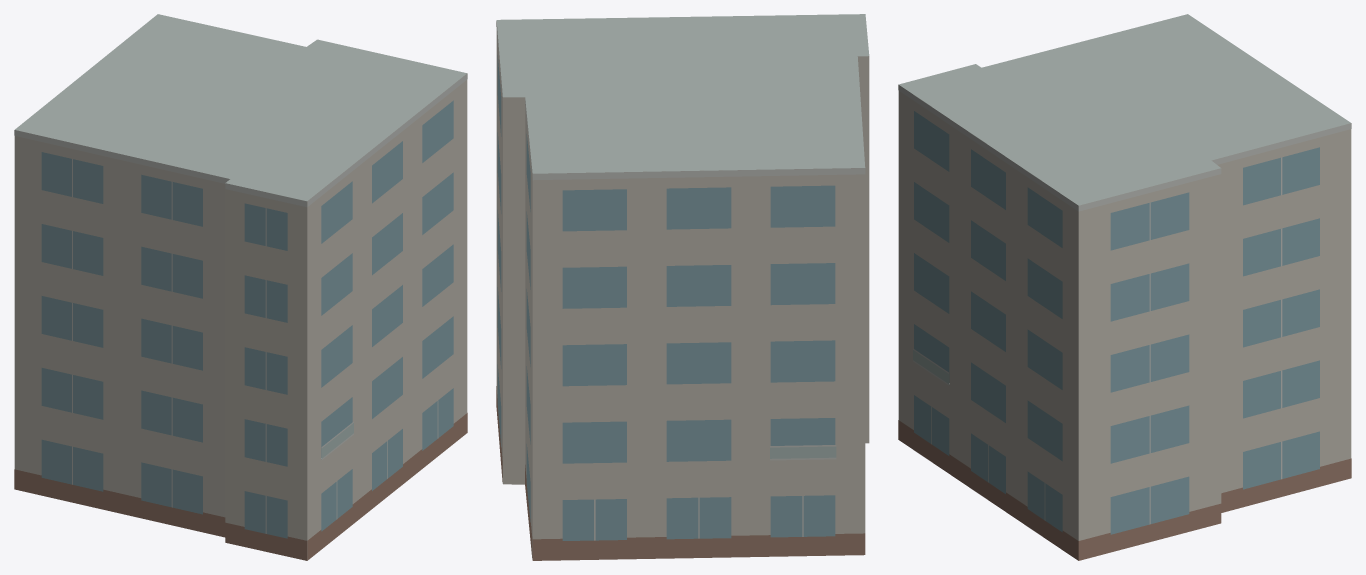
The model's file is survey-upis-32466091.glb.
The picture shows the model from 3 angles, left to right: view 1: azimuth 30°, elevation 25°; view 2: azimuth 150°, elevation 25°; view 3: azimuth 270°, elevation 25°; orthographic projection. The views are drawn at different scales.
Parts seen in each view (by area): view 1: survey-upis-32466091.tmp; view 2: survey-upis-32466091.tmp; view 3: survey-upis-32466091.tmp.
Boxes of the visible parts, left/top/right/bottom form: survey-upis-32466091.tmp: left=14, top=14, right=467, bottom=560; survey-upis-32466091.tmp: left=496, top=14, right=869, bottom=560; survey-upis-32466091.tmp: left=898, top=14, right=1351, bottom=560.
Size of the model in its own units: 16.96 by 14.65 by 16.94.
